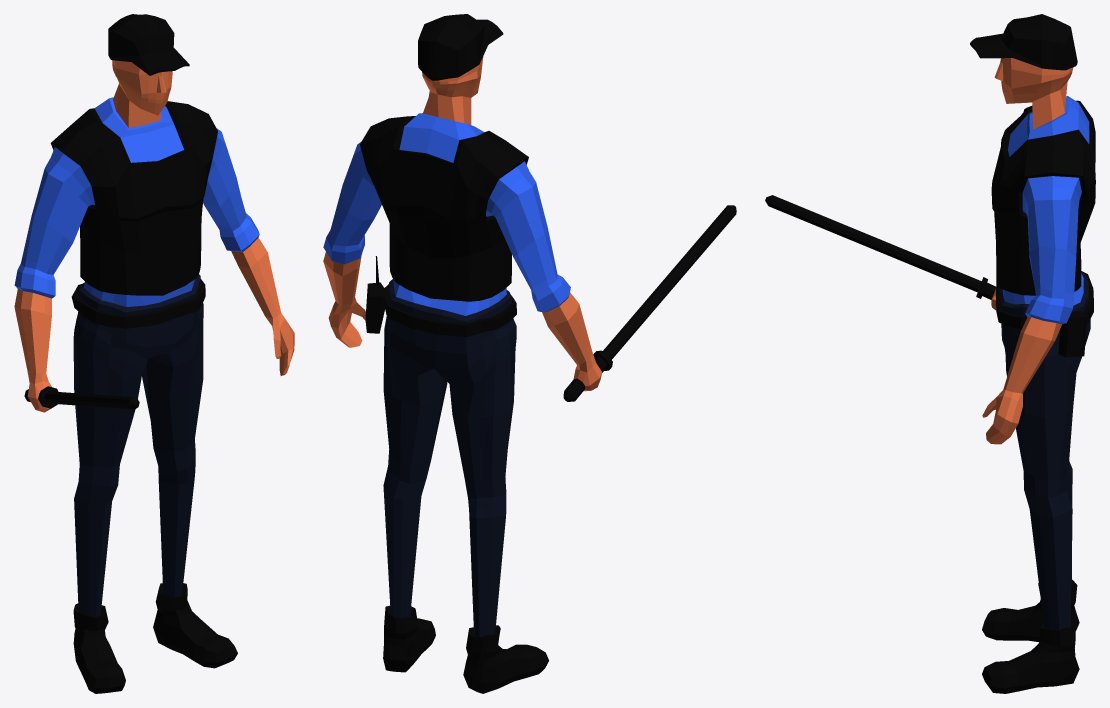
3 renders of one model, left to right at view 1: azimuth 30°, elevation 25°; view 2: azimuth 150°, elevation 25°; view 3: azimuth 270°, elevation 25°, orthographic.
Visible parts, largest first — view 1: Enemy_Meleeobjcleanermaterialmergergles; view 2: Enemy_Meleeobjcleanermaterialmergergles; view 3: Enemy_Meleeobjcleanermaterialmergergles.
Boxes of the visible parts, x1,y1,x2,y2 form: Enemy_Meleeobjcleanermaterialmergergles: (14, 14, 294, 693); Enemy_Meleeobjcleanermaterialmergergles: (323, 14, 736, 693); Enemy_Meleeobjcleanermaterialmergergles: (765, 14, 1095, 693).
Size of the model in its own units: 0.8314 by 1.81 by 0.8416.
